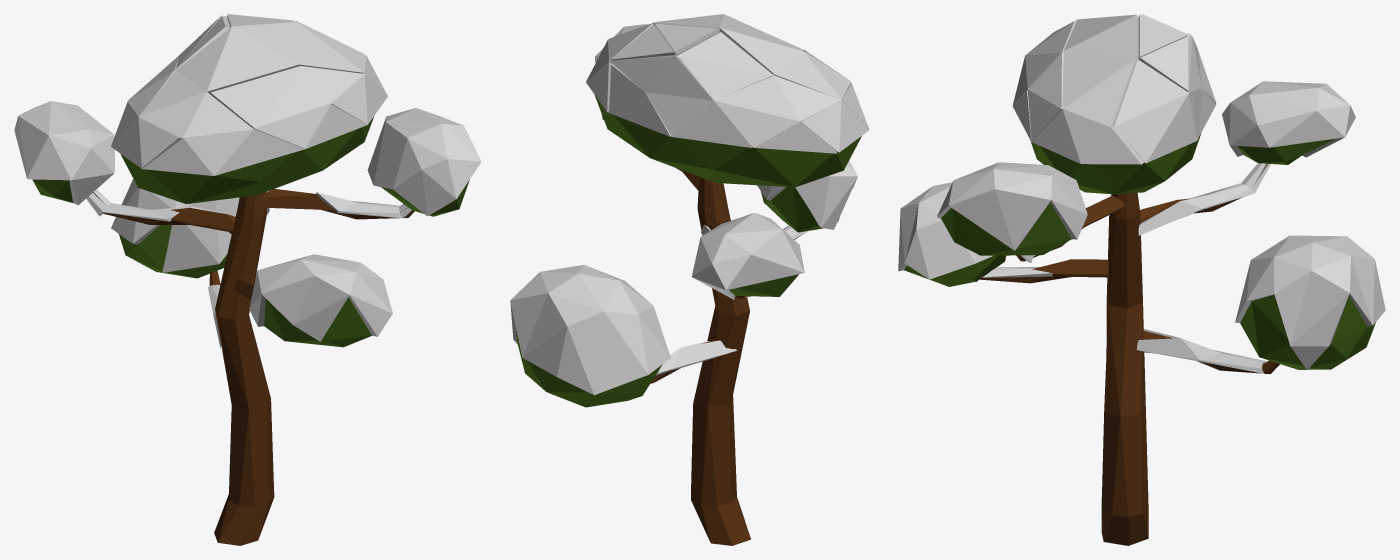
The model's file is Tree_04.fbx.
3 renders of one model, left to right at view 1: azimuth 30°, elevation 25°; view 2: azimuth 150°, elevation 25°; view 3: azimuth 270°, elevation 25°, orthographic. The views are drawn at different scales.
Visible parts, largest first — view 1: Tree_04; view 2: Tree_04; view 3: Tree_04.
Part boxes in pixels (x1,y1,x2,y2): Tree_04: (14,14,481,545); Tree_04: (510,14,869,545); Tree_04: (898,14,1385,545).
Bounding box in the file's own units: 466 × 713 × 603.
